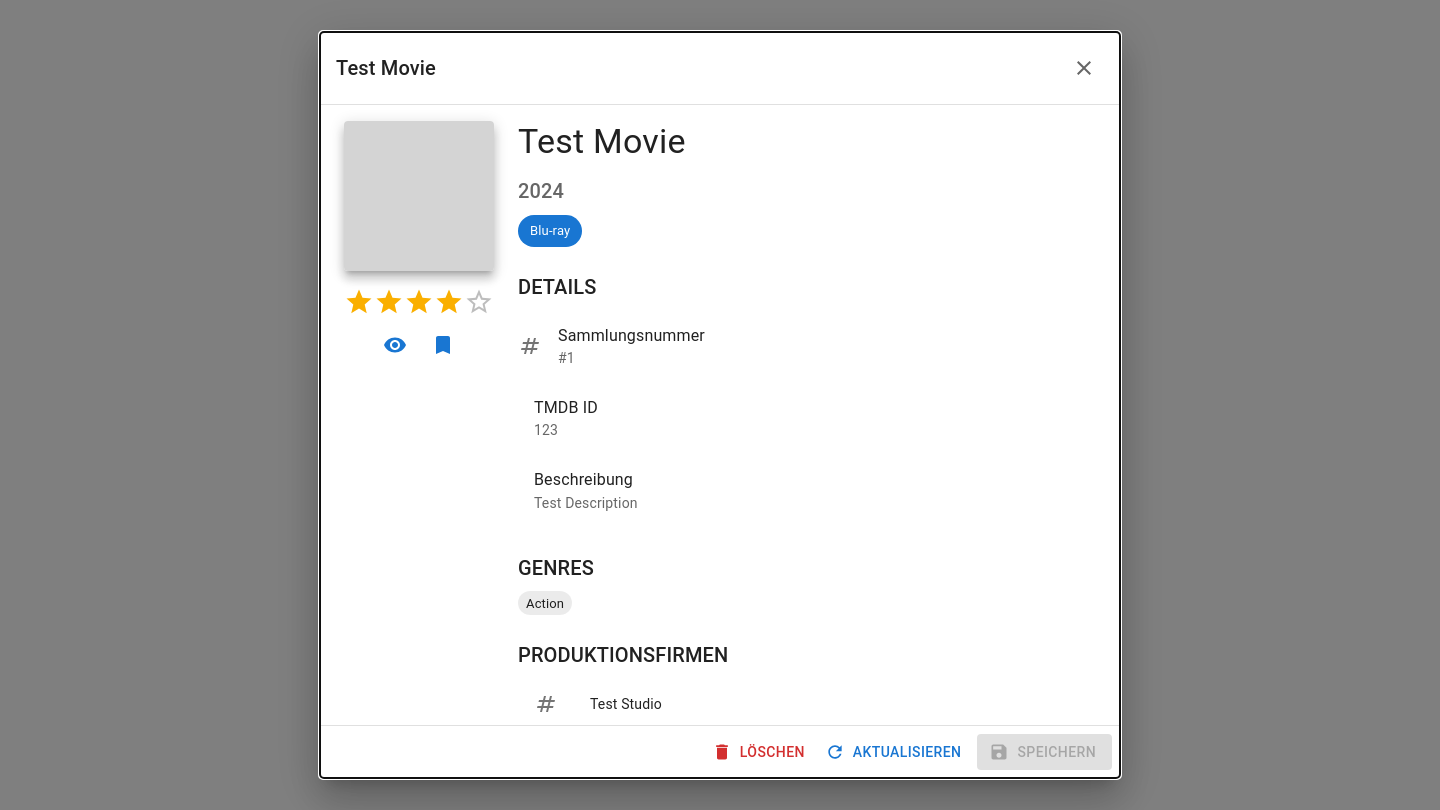
Test case: MovieDialog › zeigt Fehlermeldung bei TMDB-Update-Fehler
This screenshot has width=1440, height=810.
Click the button "Aktualisieren": (895, 752) [821,734,969,770]
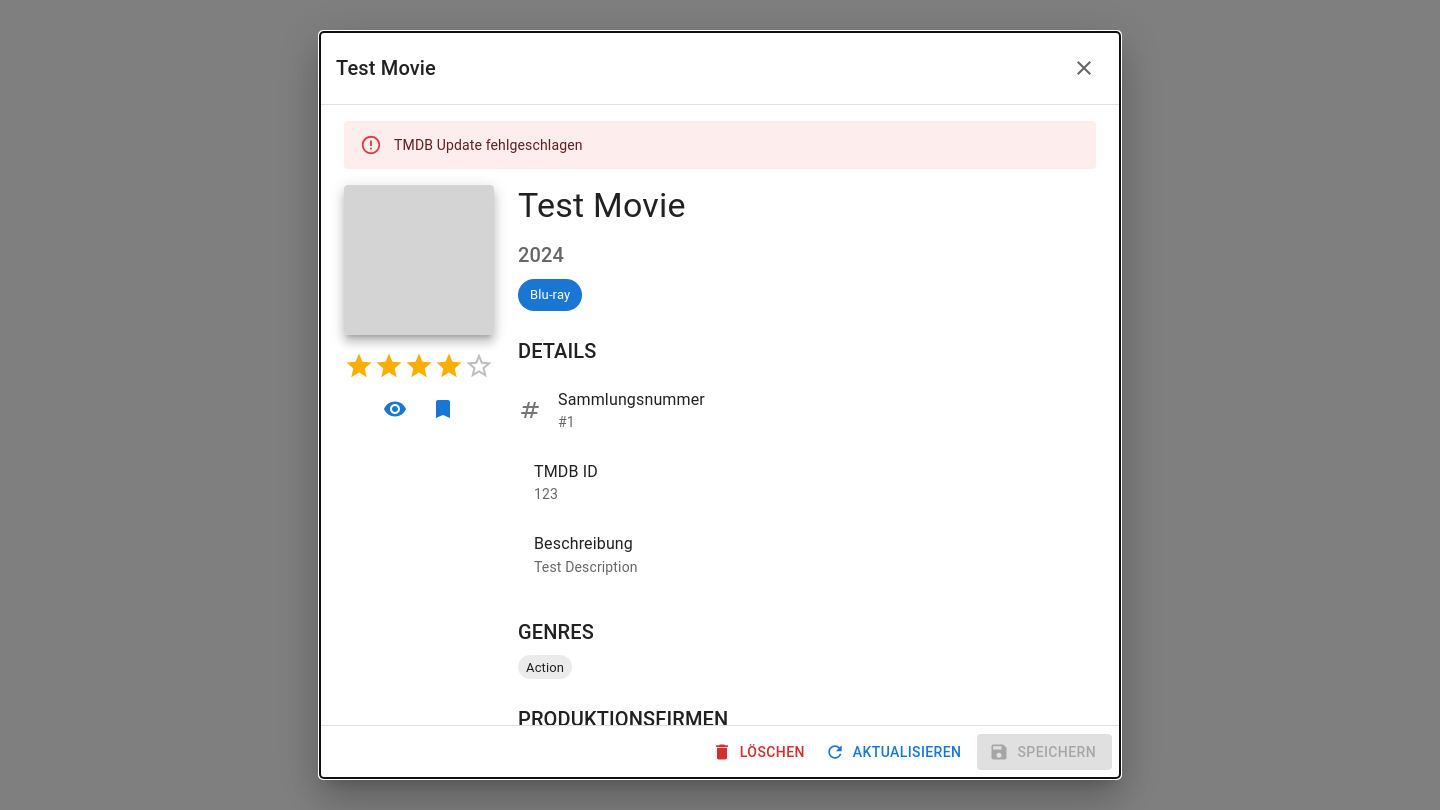
Result: the text "TMDB Update fehlgeschlagen" is shown at [394,137,583,153]
